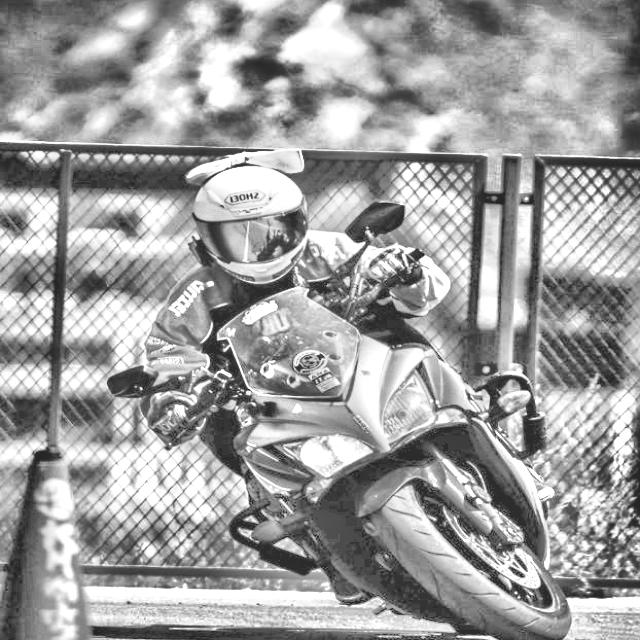Helmet: (190, 161, 311, 288)
